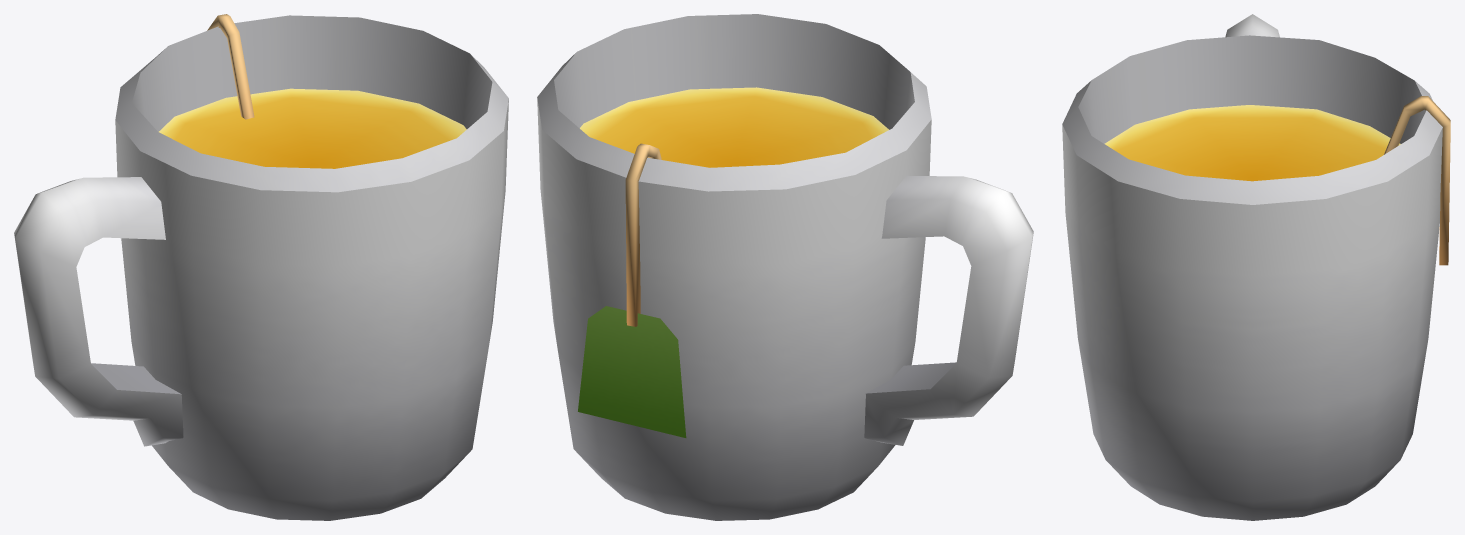
Rendered from m_Mug02_Tea06.fbx.
3 views of the same model, side by side, from view 1: azimuth 30°, elevation 25°; view 2: azimuth 150°, elevation 25°; view 3: azimuth 270°, elevation 25° (orthographic). The views are drawn at different scales.
Visible parts, largest first — view 1: m_Mug02_Tea06; view 2: m_Mug02_Tea06; view 3: m_Mug02_Tea06.
Part boxes in pixels (x1,y1,x2,y2): m_Mug02_Tea06: (14, 14, 508, 520); m_Mug02_Tea06: (537, 14, 1033, 520); m_Mug02_Tea06: (1062, 14, 1450, 520).
Size of the model in its own units: 15.22 by 11.86 by 11.36.
